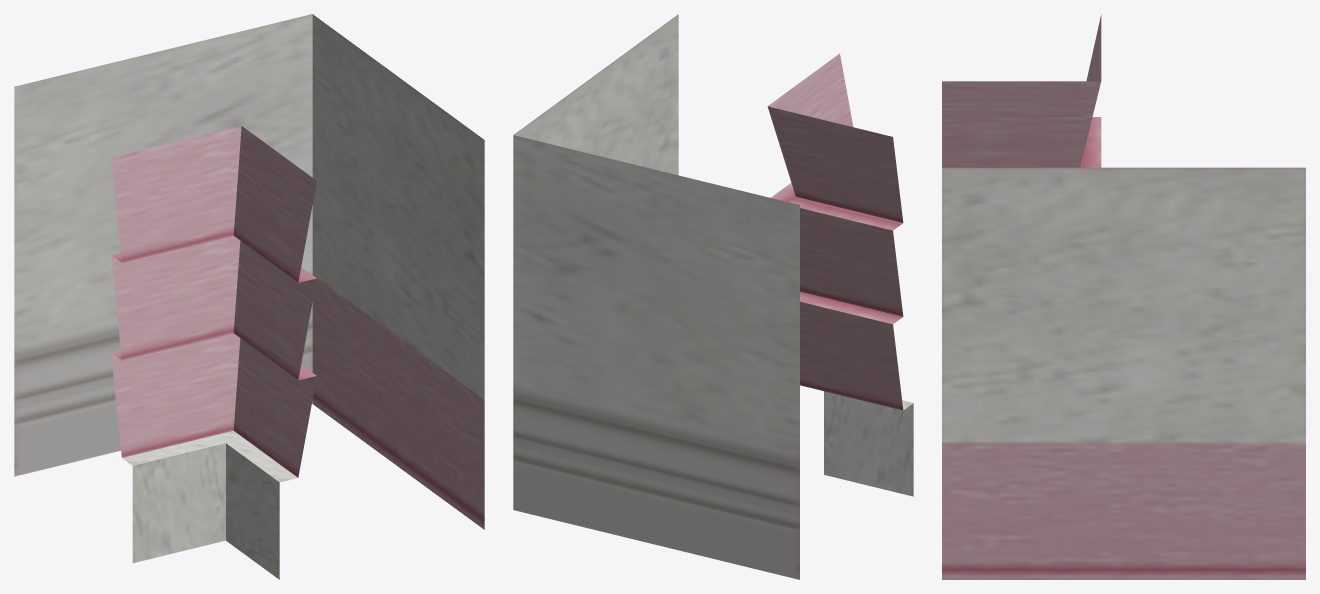
The model's file is extWallBase_RL.obj.
3 views of the same model, side by side, from view 1: azimuth 30°, elevation 25°; view 2: azimuth 150°, elevation 25°; view 3: azimuth 270°, elevation 25° (orthographic). The views are drawn at different scales.
Size of the model in its own units: 1.6 by 2 by 1.6.
